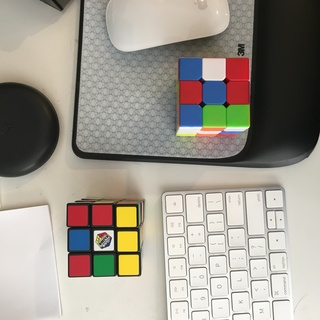face: (178, 56, 250, 128)
